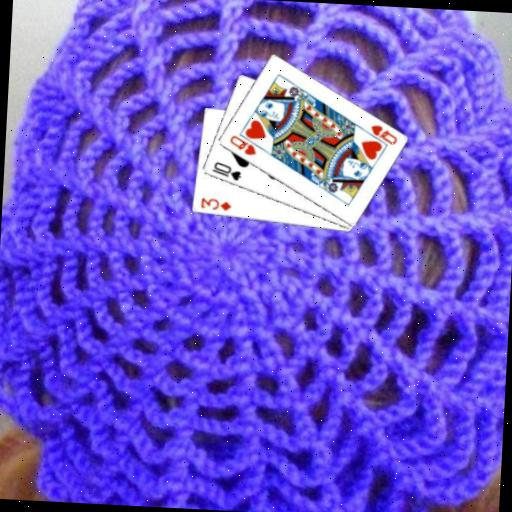10S: (208, 158, 243, 183)
3D: (197, 195, 233, 213)
QH: (359, 122, 399, 149), (226, 132, 259, 157)
